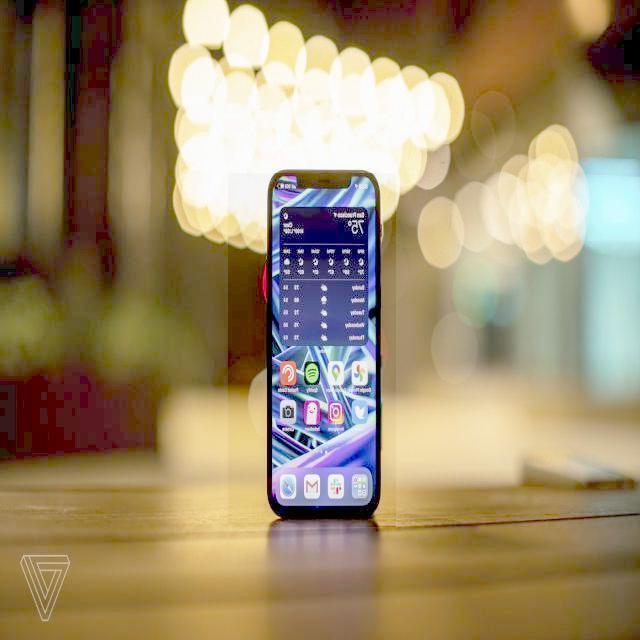mobile: (228, 174, 396, 528)
